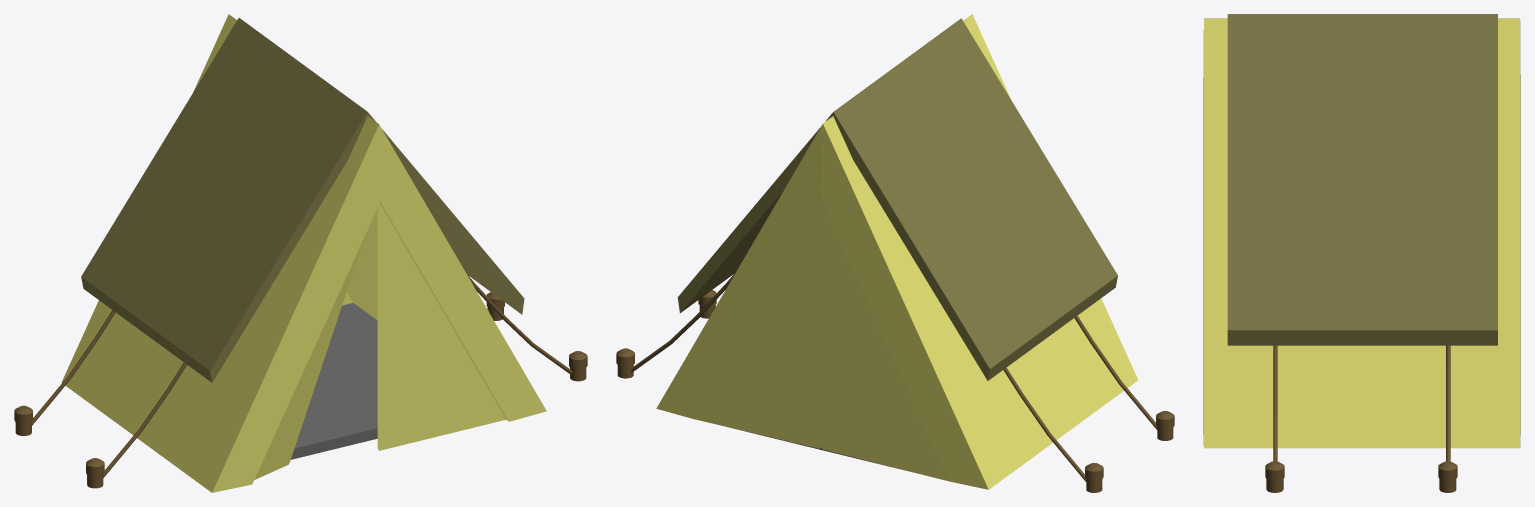
File: Yellow Tent.glb
The picture shows the model from 3 angles, left to right: view 1: azimuth 30°, elevation 25°; view 2: azimuth 150°, elevation 25°; view 3: azimuth 270°, elevation 25°; orthographic projection. The views are drawn at different scales.
Parts seen in each view (by area): view 1: Cube, Cube.001, Plane, Cylinder.003, Cylinder.004, Cylinder.010; view 2: Cube, Cube.001, Cylinder.004, Cylinder.003, Cylinder.009; view 3: Cube.001, Cube, Cylinder.009, Cylinder.010, Cylinder.008.
Part boxes in pixels (x1,y1,x2,y2): Cube: (61, 14, 546, 492); Cube.001: (81, 18, 524, 382); Plane: (291, 303, 377, 459); Cylinder.003: (103, 362, 186, 477); Cylinder.004: (32, 310, 115, 425); Cylinder.010: (466, 273, 572, 374); Cube: (656, 14, 1138, 489); Cube.001: (677, 18, 1117, 380); Cylinder.004: (1003, 367, 1086, 481); Cylinder.003: (1074, 316, 1157, 429); Cylinder.009: (631, 272, 735, 372); Cube.001: (1227, 14, 1497, 345); Cube: (1203, 18, 1520, 448); Cylinder.009: (1446, 345, 1450, 461); Cylinder.010: (1273, 345, 1277, 461); Cylinder.008: (1438, 461, 1457, 480).
Bounding box in the file's own units: 0.4899 × 0.3255 × 0.2629.
